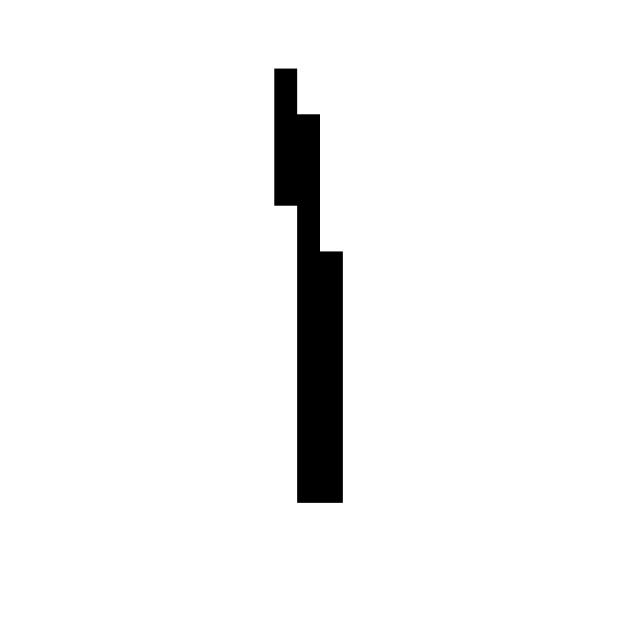1 -one-: (245, 44, 371, 526)
